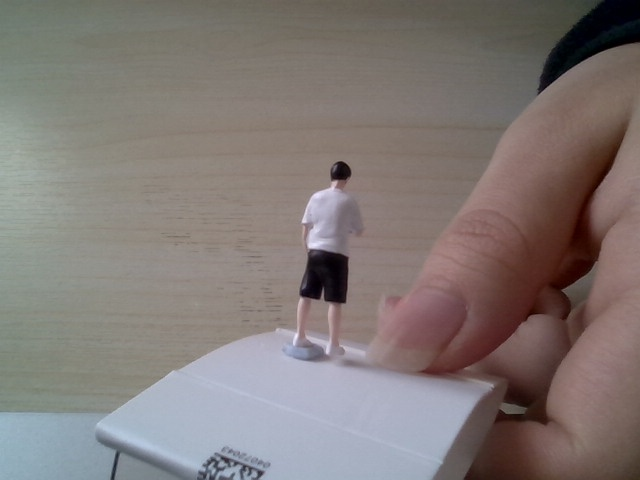walk: (284, 149, 369, 362)
